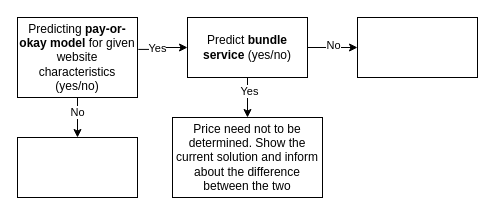
This 495x215 diagram has some shape labels left out. Each missing label, with the centre of its shape:
Inform managers about pay-or-okay models: (77,167)
Predict the price of pay-or-okay model: (417,47)
